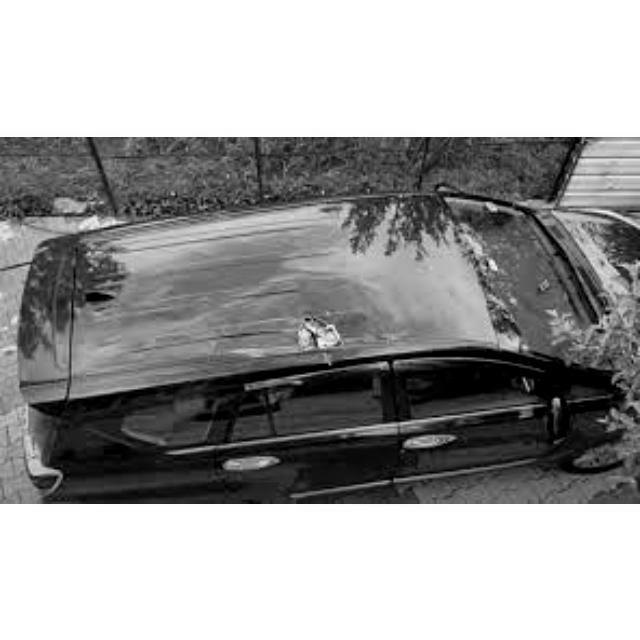roof-dent: (182, 193, 450, 420)
